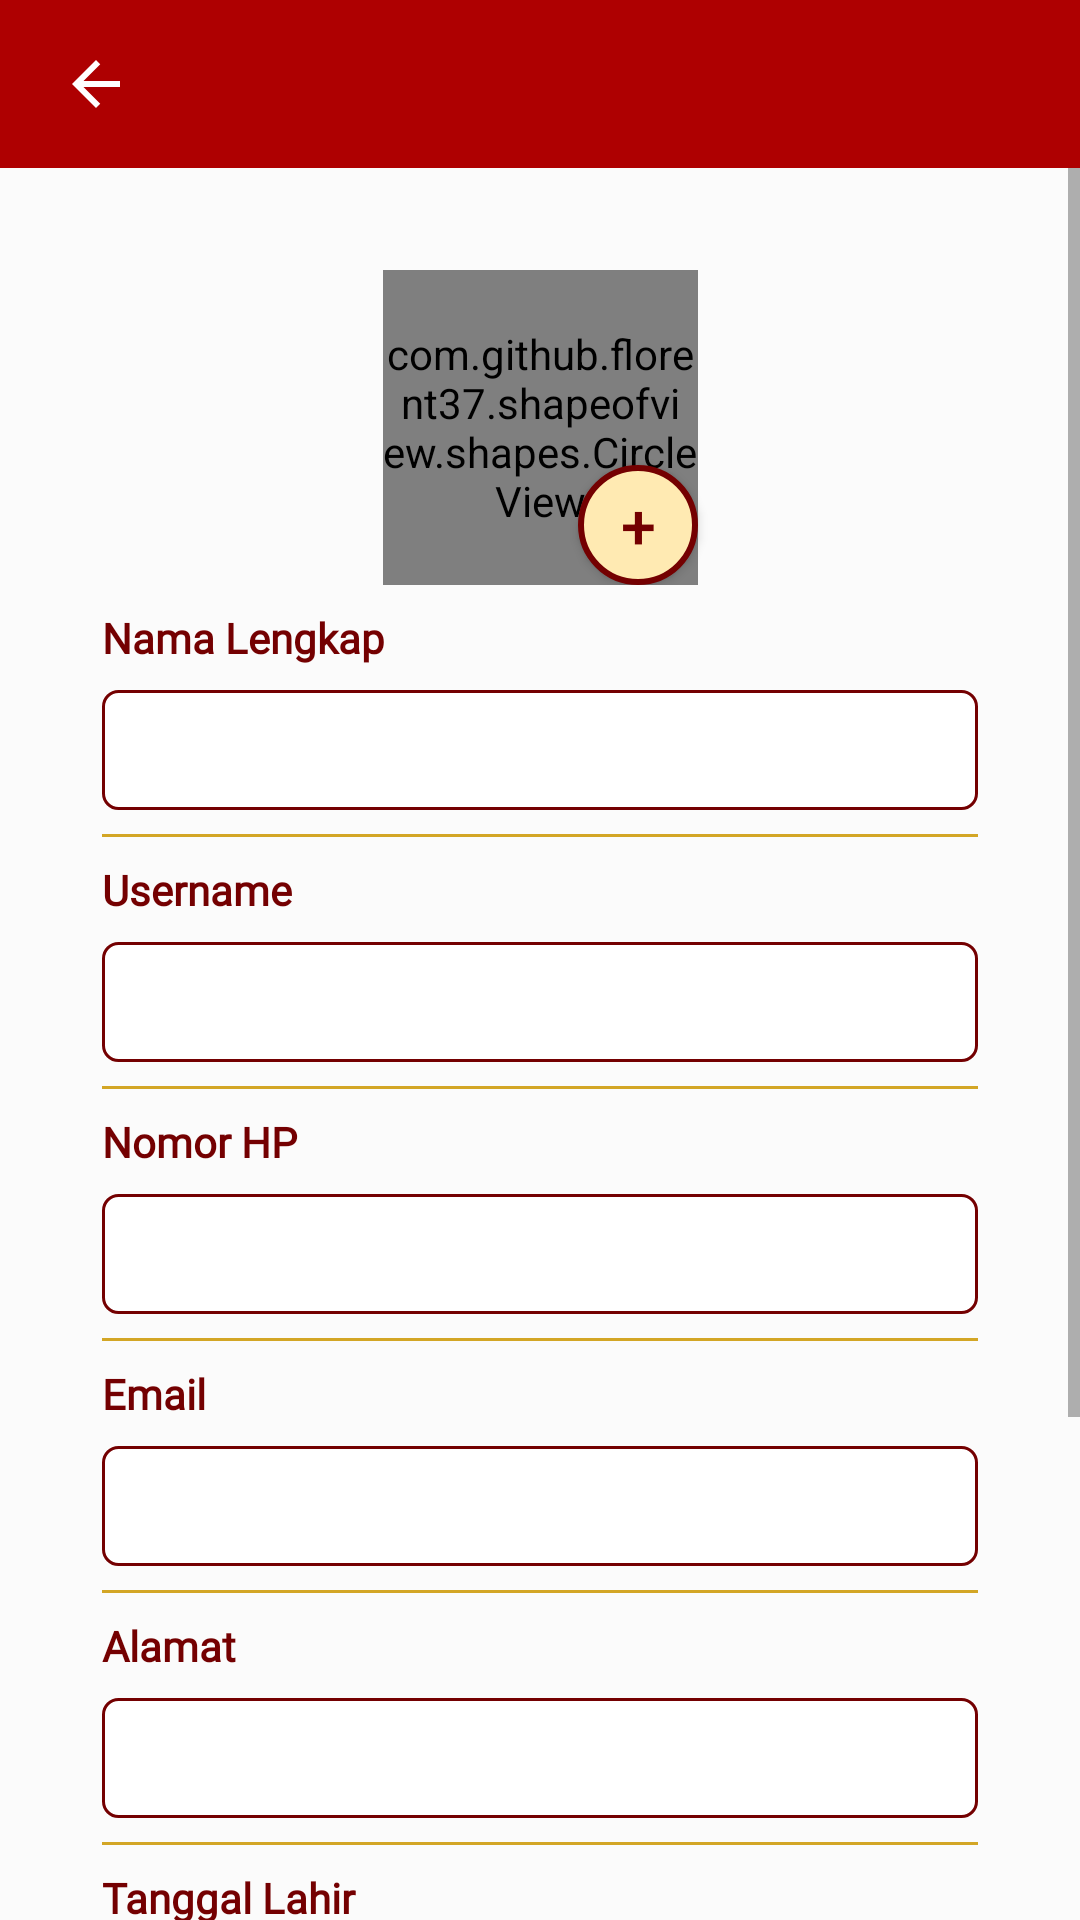

Where to tap for icons on this 1080×1920 app screen, as (x,y):
back: (96,84)
